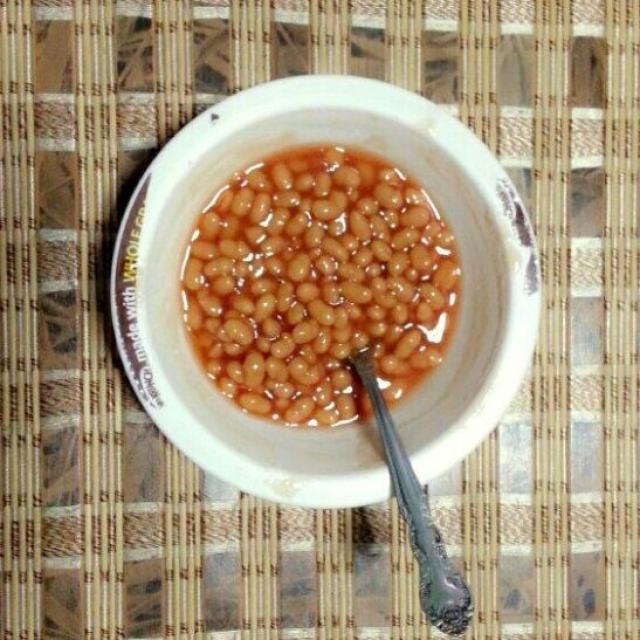beans: (183, 149, 459, 425), (288, 357, 320, 384), (395, 329, 422, 359), (433, 260, 459, 291), (243, 353, 265, 388), (285, 397, 314, 423), (224, 319, 253, 345), (239, 392, 271, 415), (308, 299, 335, 326), (374, 184, 402, 210), (341, 281, 372, 304), (421, 282, 445, 311), (388, 278, 415, 303), (183, 258, 203, 291), (322, 237, 348, 262), (198, 291, 223, 317), (409, 244, 432, 272), (287, 253, 310, 281), (267, 208, 290, 236), (410, 348, 442, 368), (312, 199, 341, 221), (349, 211, 370, 241), (250, 194, 271, 224), (204, 257, 234, 278), (271, 334, 296, 359), (219, 239, 250, 259), (254, 293, 276, 321), (231, 188, 253, 216), (201, 211, 221, 241), (401, 206, 431, 226), (391, 229, 420, 249), (266, 356, 288, 382), (334, 167, 361, 188), (272, 163, 293, 190), (293, 321, 318, 343), (370, 215, 390, 242), (285, 213, 308, 236), (277, 282, 294, 313), (337, 263, 366, 281), (336, 394, 356, 420), (371, 239, 393, 262), (388, 252, 409, 276), (211, 275, 235, 296), (247, 170, 271, 191), (260, 237, 285, 257), (305, 223, 325, 248), (356, 162, 376, 187), (191, 240, 216, 260), (330, 369, 353, 390), (297, 282, 320, 303), (313, 381, 333, 405), (215, 188, 234, 213), (185, 305, 203, 331), (244, 225, 266, 246), (286, 302, 306, 325), (273, 190, 300, 207), (329, 190, 348, 214), (314, 172, 332, 197), (315, 409, 340, 427), (313, 329, 331, 354), (251, 278, 276, 296), (220, 217, 241, 238), (314, 256, 336, 276), (294, 172, 314, 193), (380, 355, 401, 375), (265, 256, 285, 277), (261, 318, 281, 339), (378, 168, 401, 186), (216, 189, 234, 212), (218, 377, 237, 398), (322, 282, 340, 304), (226, 361, 244, 383), (357, 197, 379, 215), (405, 188, 428, 205), (354, 247, 373, 267), (424, 220, 441, 242), (273, 382, 296, 398), (299, 344, 318, 363), (340, 233, 359, 252), (416, 302, 434, 322), (391, 305, 409, 325), (330, 343, 351, 360), (325, 149, 343, 167), (368, 321, 387, 338), (205, 360, 223, 377), (383, 211, 400, 229), (369, 277, 387, 294), (333, 326, 352, 342), (367, 305, 386, 321), (334, 307, 348, 328), (352, 332, 369, 349), (233, 261, 250, 278), (346, 302, 362, 320), (289, 158, 308, 173), (224, 343, 245, 356), (204, 318, 221, 334), (298, 197, 312, 216), (438, 231, 453, 248), (256, 336, 270, 354), (366, 263, 382, 278), (348, 190, 360, 203)
